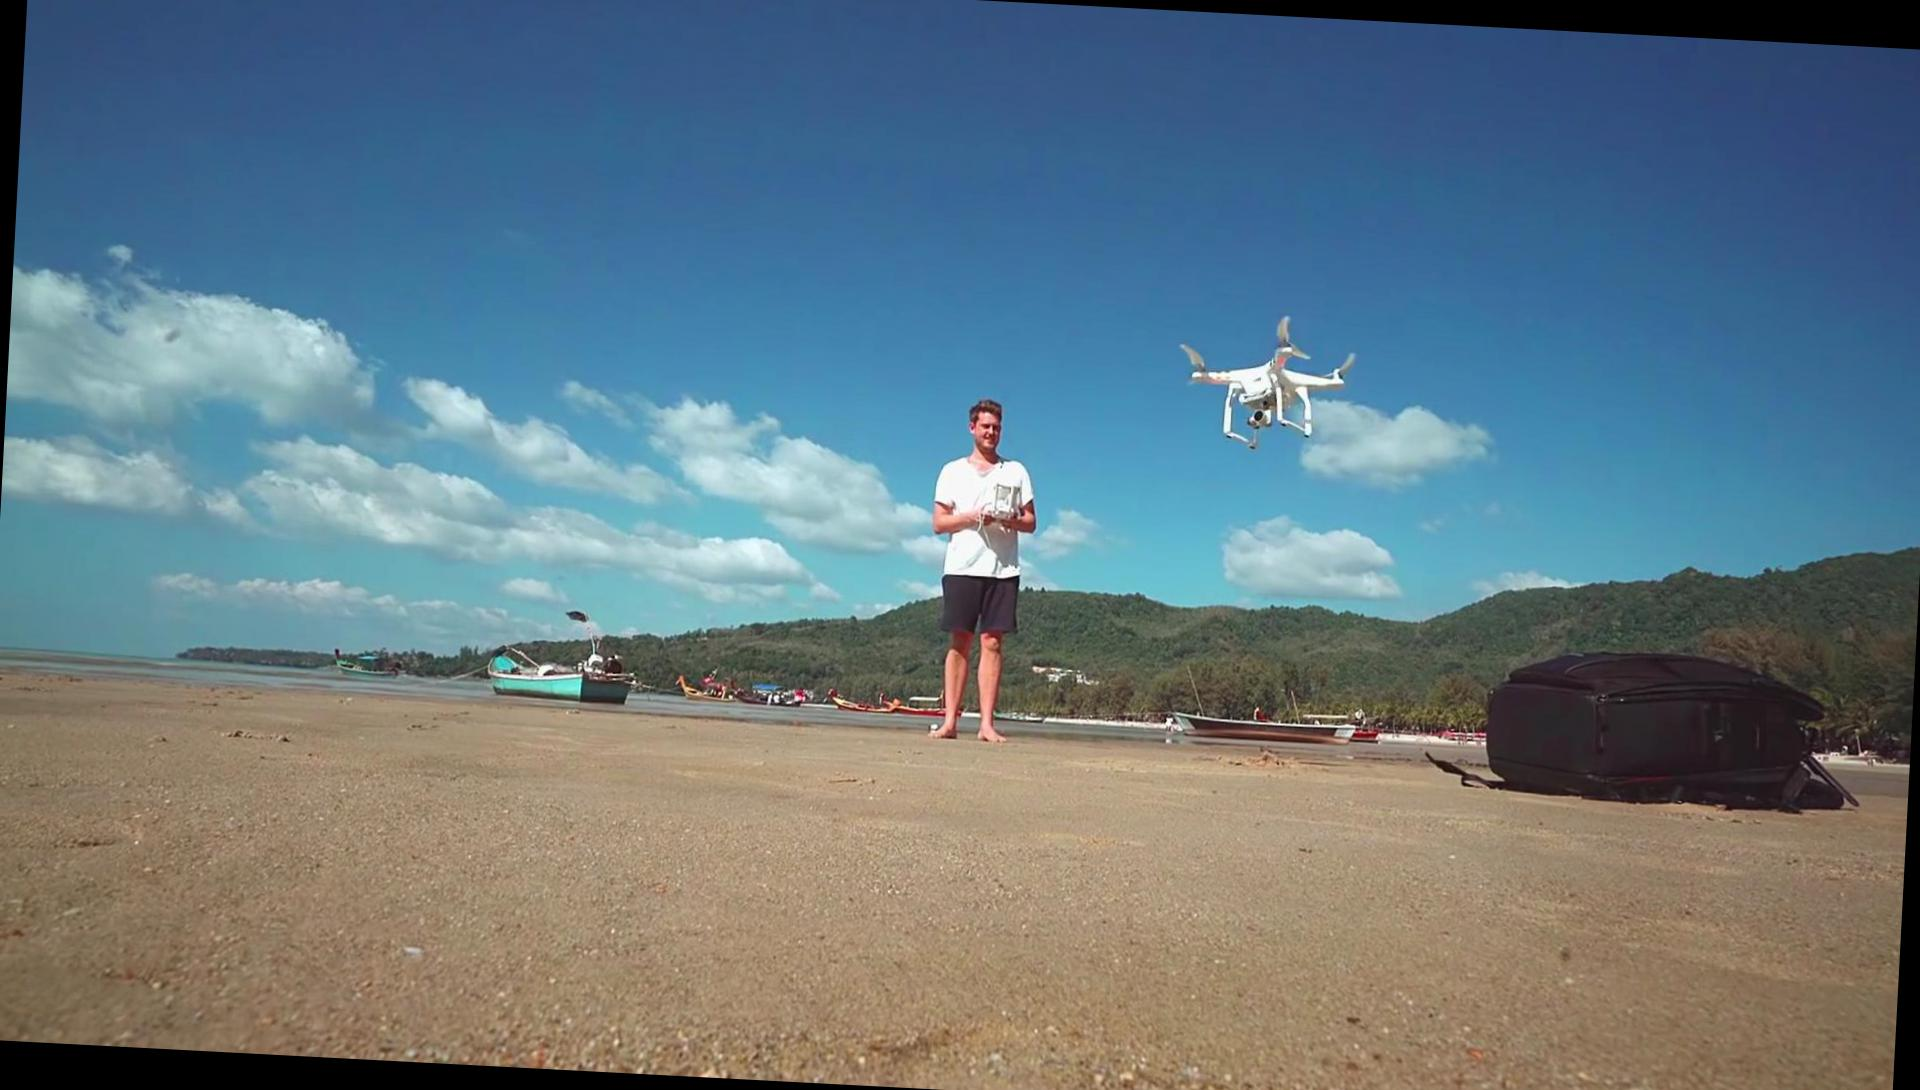drone: (1175, 302, 1361, 463)
